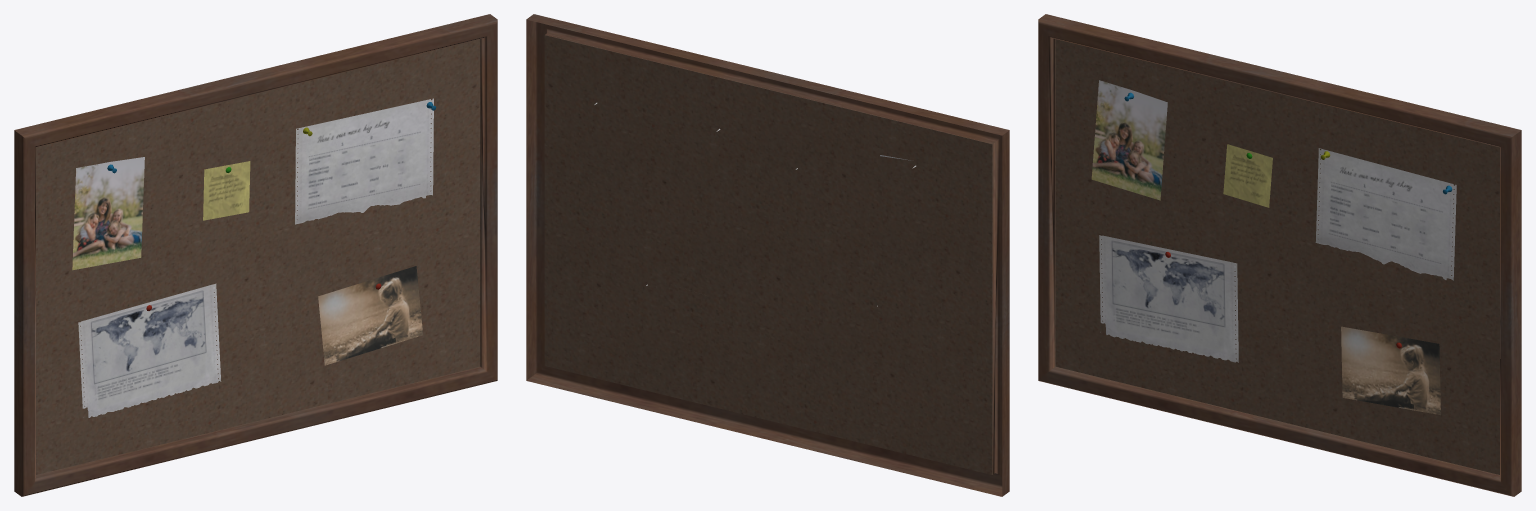
File: babillard_mini.gltf
3 renders of one model, left to right at view 1: azimuth 30°, elevation 25°; view 2: azimuth 150°, elevation 25°; view 3: azimuth 330°, elevation 25°, orthographic.
Visible parts, largest first — view 1: PinBoard_24, Paper_Fax2_14, Paper_Fax1_13, Photo_Child_16, Photo_Family_17, Paper_Note_15; view 2: PinBoard_24; view 3: PinBoard_24, Paper_Fax2_14, Paper_Fax1_13, Photo_Child_16, Photo_Family_17, Paper_Note_15.
Part boxes in pixels (x1,y1,x2,y2): PinBoard_24: (14, 14, 497, 496); Paper_Fax2_14: (78, 283, 221, 417); Paper_Fax1_13: (295, 98, 433, 224); Photo_Child_16: (318, 266, 422, 365); Photo_Family_17: (72, 157, 144, 270); Paper_Note_15: (203, 161, 250, 220); PinBoard_24: (526, 14, 1009, 496); PinBoard_24: (1038, 14, 1521, 496); Paper_Fax2_14: (1099, 235, 1238, 362); Paper_Fax1_13: (1315, 148, 1456, 280); Photo_Child_16: (1341, 326, 1440, 415); Photo_Family_17: (1091, 80, 1167, 200); Paper_Note_15: (1223, 144, 1272, 207).
Size of the model in its own units: 0.7242 by 0.5252 by 0.027.
Materials: 1 (1 with a texture image).
